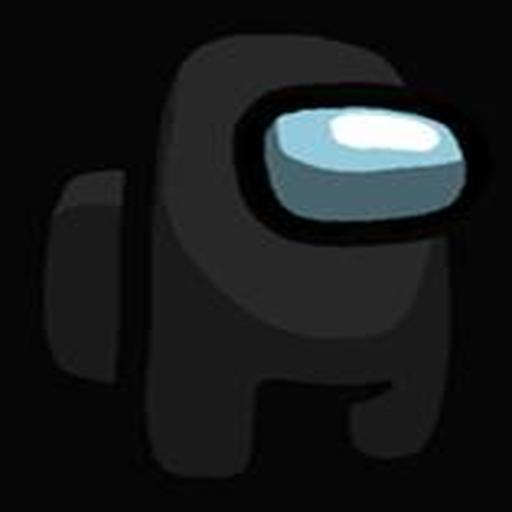Crewmate: (38, 26, 479, 475)
